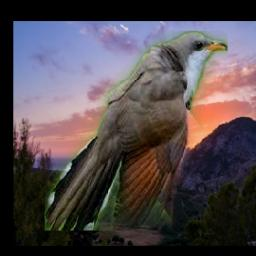Cuckoo: (46, 32, 229, 231)
